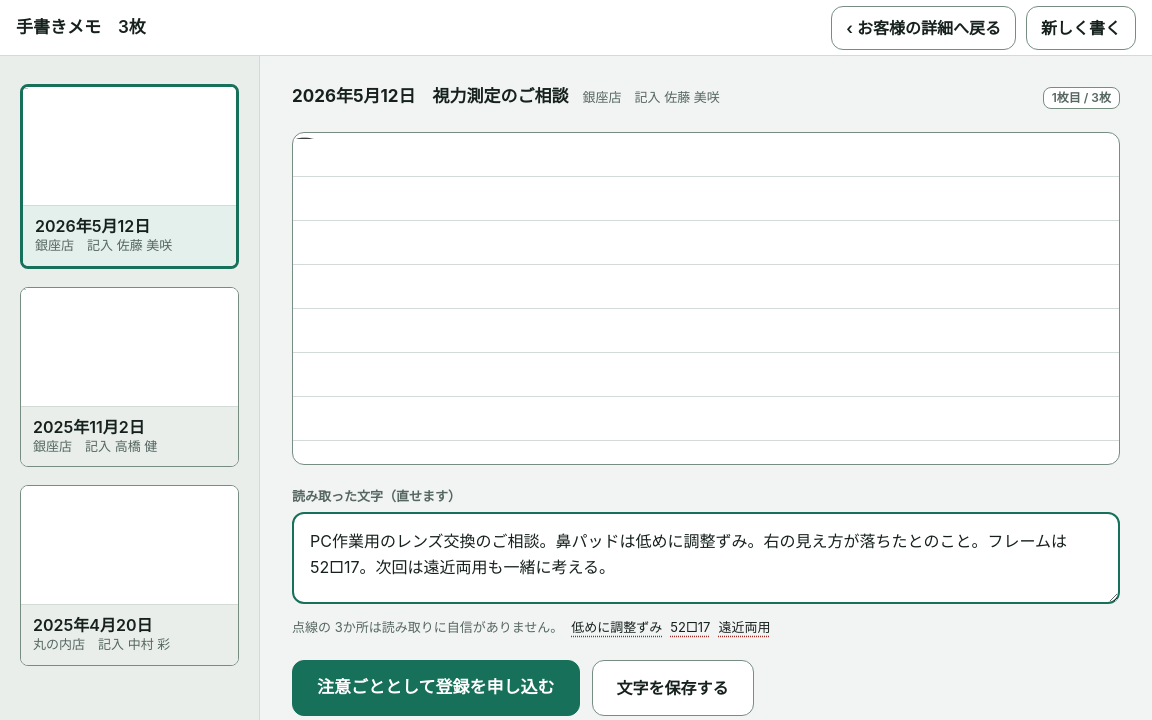
一覧 › 丸の内店で書かれた 1 枚も銀座店の端末から読める
Click the radio button labelled "2025年4月20日 丸の内店 記入 中村 彩" at (130, 575), box left=20, top=485, right=239, bottom=666
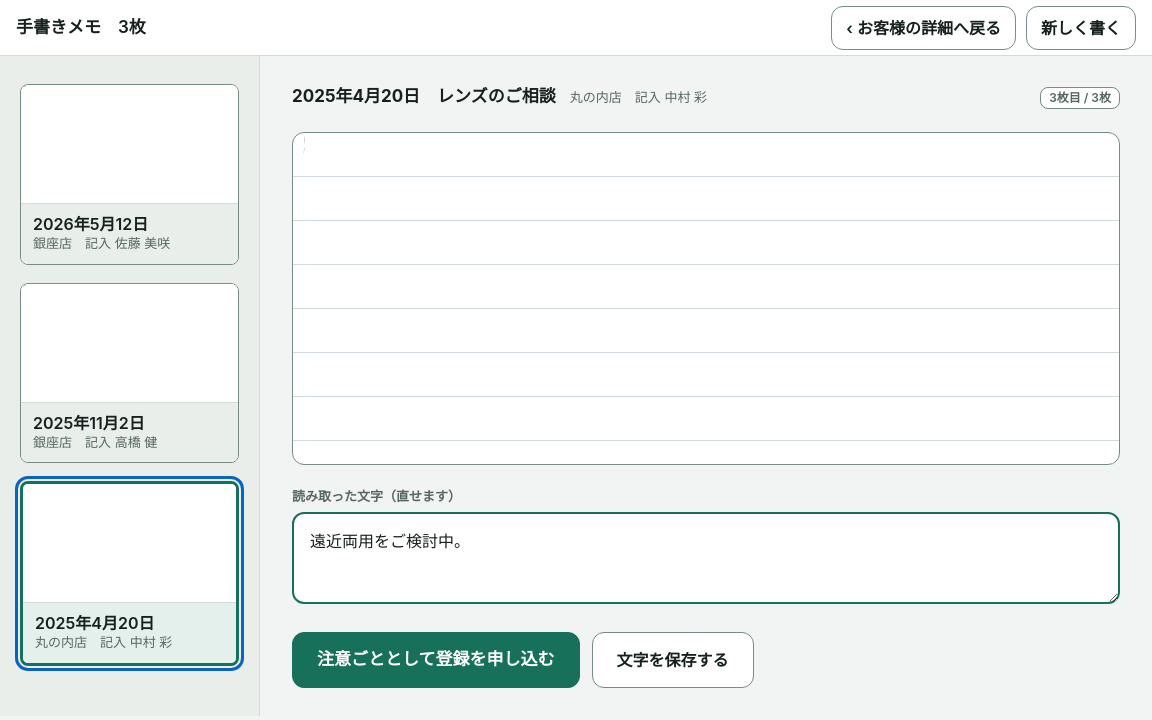
Now the text "2025年4月20日　レンズのご相談" is shown, box left=292, top=86, right=556, bottom=106
Now the text "丸の内店　記入 中村 彩" next to "2025年4月20日 レンズのご相談" is shown, box left=570, top=89, right=707, bottom=105
Now the text box labelled "読み取った文字（直せます）" holds "遠近両用をご検討中。", box left=292, top=512, right=1120, bottom=604
